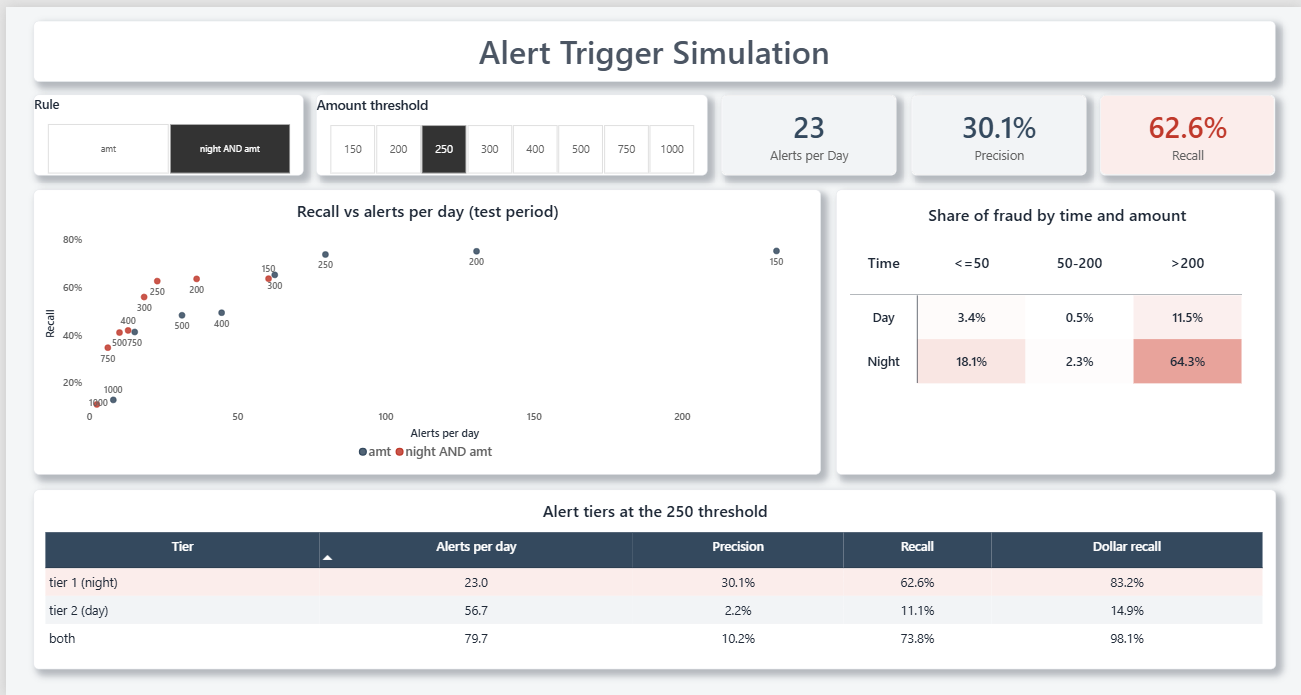

This screenshot's page, from the dashboard's own definition file:
{"tool":"powerbi","page":{"name":"Alert Triggers","canvas":[1920,1020],"ordinal":1},"visuals":[{"type":"textbox","box":[40,20,1840,90],"z":0},{"type":"slicer","title":"Rule","fields":{"Values":["threshold_sweep.rule"]},"box":[40,130,400,120],"z":1},{"type":"slicer","title":"Amount threshold","fields":{"Values":["threshold_sweep.threshold"]},"box":[460,130,580,120],"z":2},{"type":"cardVisual","fields":{"Data":["threshold_sweep.Alerts per Day"]},"box":[1060,130,260,120],"z":3},{"type":"cardVisual","fields":{"Data":["threshold_sweep.Total_Precision"]},"box":[1340,130,260,120],"z":4},{"type":"cardVisual","fields":{"Data":["threshold_sweep.Total_Recall"]},"box":[1620,130,260,120],"z":5},{"type":"scatterChart","title":"Recall vs alerts per day (test period)","fields":{"X":["threshold_sweep.Alerts per Day"],"Y":["Sum(threshold_sweep.recall)"],"Series":["threshold_sweep.rule"],"Category":["threshold_sweep.threshold"]},"box":[40.7,270.4,1166.7,422.2],"z":6},{"type":"tableEx","title":"Alert tiers at the 250 threshold","fields":{"Values":["tier_results.tier","tier_results.alerts_per_day","tier_results.precision","tier_results.recall","tier_results.dollar_recall"]},"box":[40.7,714.8,1840.7,266.7],"z":7},{"type":"pivotTable","title":"Share of fraud by time and amount","fields":{"Rows":["night_amount_grid.Time"],"Values":["Sum(night_amount_grid.share_of_fraud)"],"Columns":["night_amount_grid.AmtLabel"]},"box":[1229.6,270.4,650,422.2],"z":8}]}

Visuals, with their boxes in screenshot pixels (x1, y1, x2, y2), scaled from the page's 1920x1020 canvas onto the 1301x695 screenshot:
textbox: crop(27, 14, 1274, 75)
"Rule" slicer: crop(27, 89, 298, 170)
"Amount threshold" slicer: crop(312, 89, 705, 170)
cardVisual - threshold_sweep.Alerts per Day: crop(718, 89, 894, 170)
cardVisual - threshold_sweep.Total_Precision: crop(908, 89, 1084, 170)
cardVisual - threshold_sweep.Total_Recall: crop(1098, 89, 1274, 170)
"Recall vs alerts per day (test period)" scatterChart: crop(28, 184, 818, 472)
"Alert tiers at the 250 threshold" tableEx: crop(28, 487, 1275, 669)
"Share of fraud by time and amount" pivotTable: crop(833, 184, 1274, 472)
